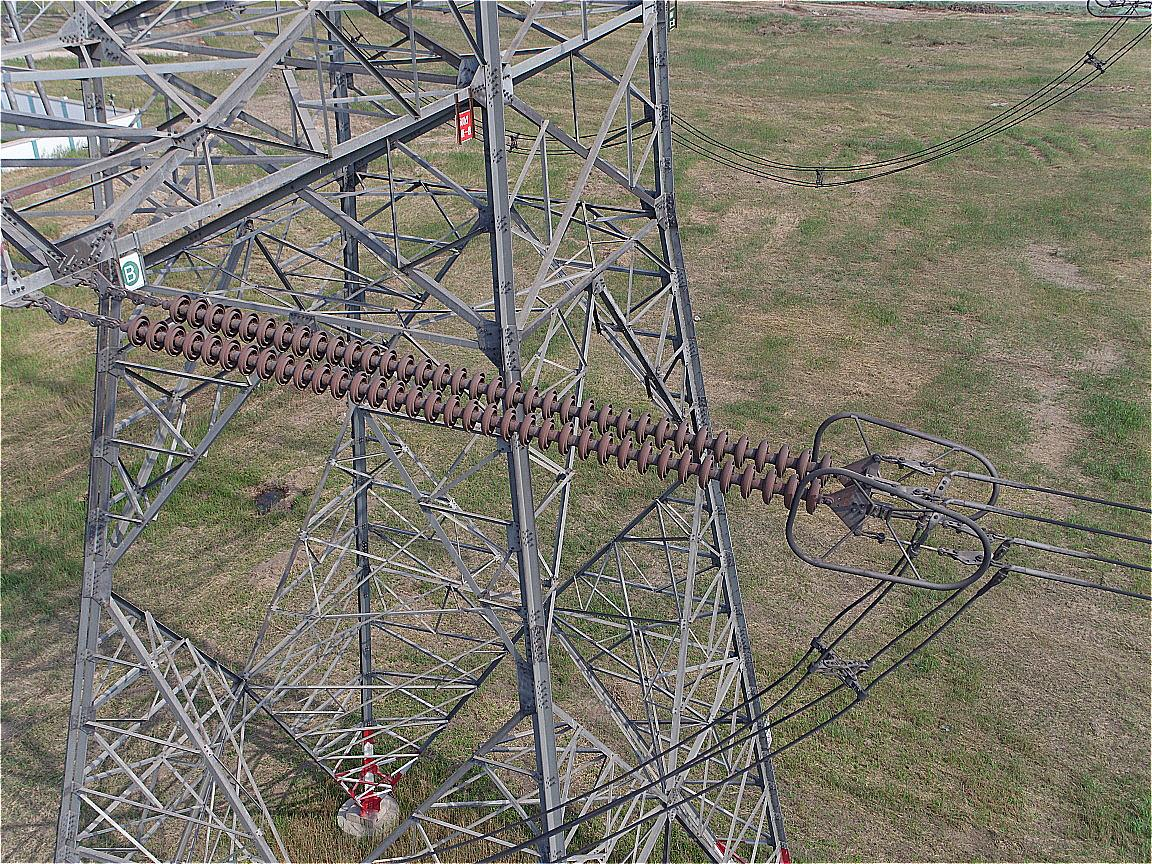insultor1: (117, 275, 838, 533)
